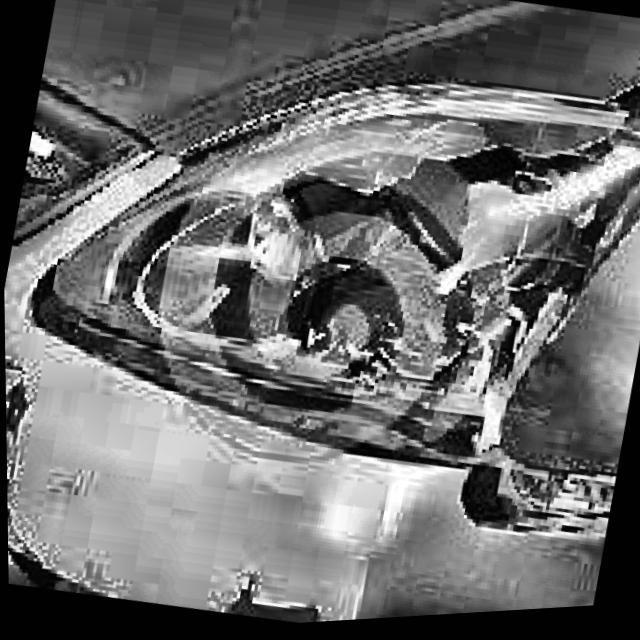head_lamp: (261, 88, 555, 425)
